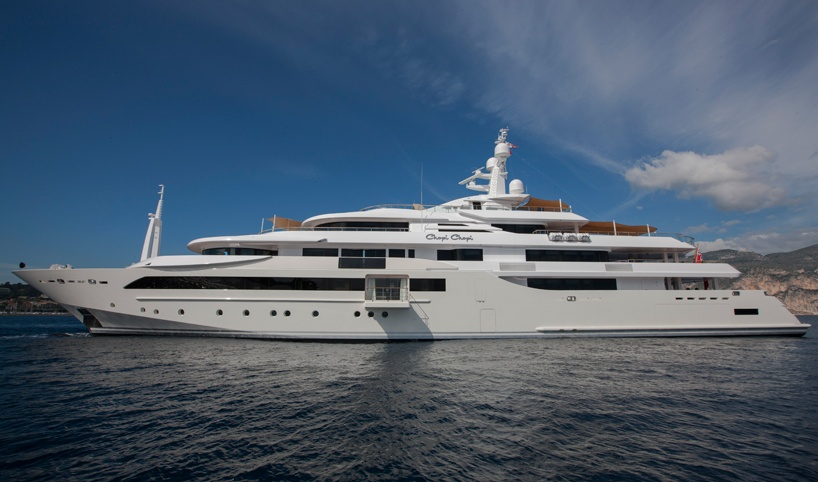yacht: (7, 120, 799, 339)
